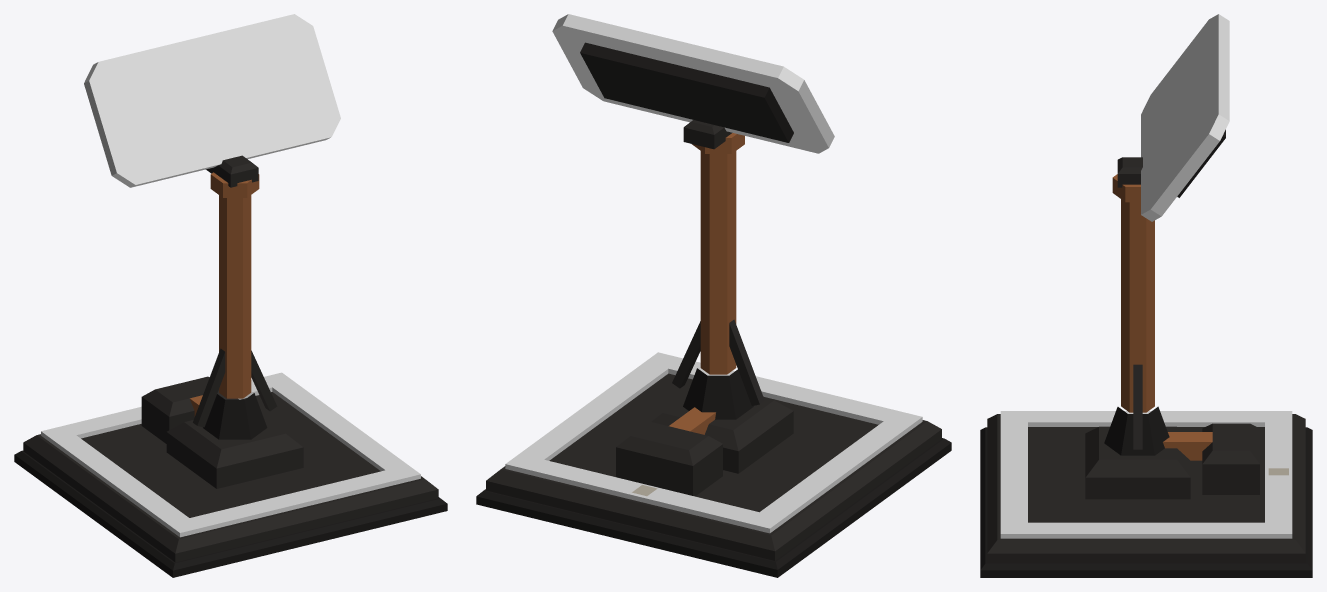
Rendered from str_t1_radar.91cc71ee.raw.glb.
3 views of the same model, side by side, from view 1: azimuth 30°, elevation 25°; view 2: azimuth 150°, elevation 25°; view 3: azimuth 270°, elevation 25° (orthographic). The views are drawn at different scales.
Parts seen in each view (by area): view 1: lod0; view 2: lod0; view 3: lod0.
Part boxes in pixels (x1,y1,x2,y2): lod0: [14, 14, 447, 577]; lod0: [476, 14, 951, 577]; lod0: [980, 14, 1312, 577].
Size of what is drawn, in the model's own units: 1.96 by 2.89 by 1.96.
